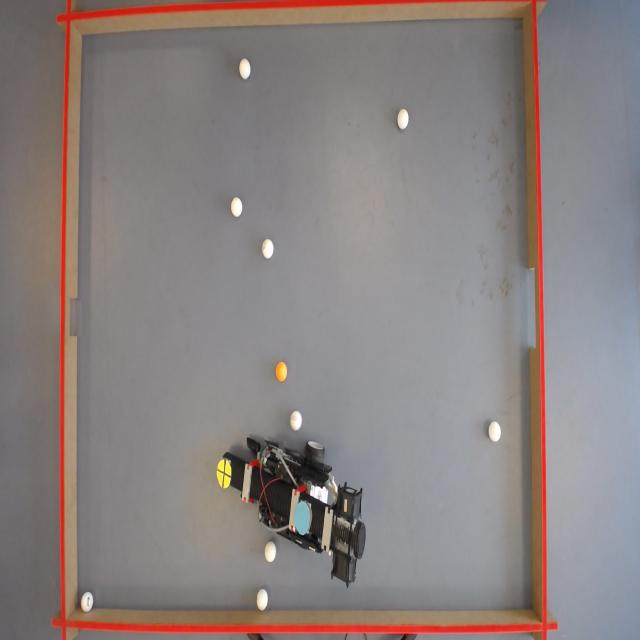orange: (276, 363, 290, 384)
robot: (216, 434, 370, 584)
robot-front: (216, 457, 232, 488)
robot-rear: (291, 500, 311, 534)
white: (255, 590, 269, 612), (239, 58, 253, 80), (80, 592, 94, 613), (263, 238, 276, 260), (396, 108, 409, 130), (489, 422, 503, 442), (232, 197, 245, 218), (290, 409, 303, 428), (266, 544, 278, 564)
